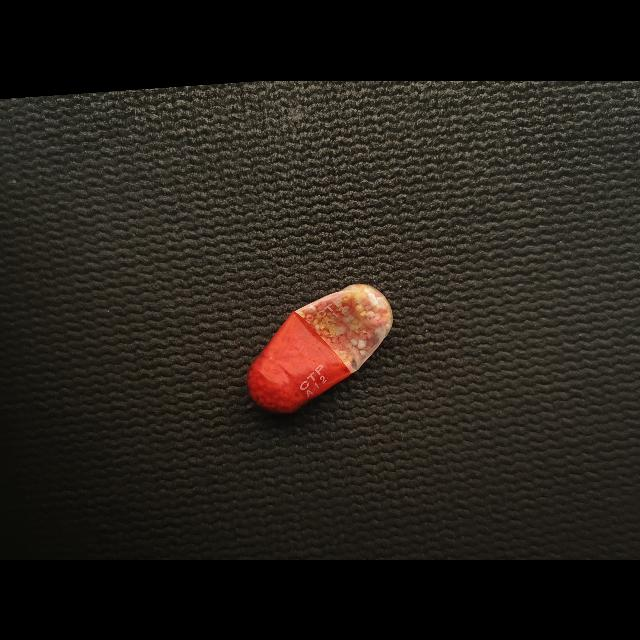Defective Capsule: (247, 283, 393, 413)
